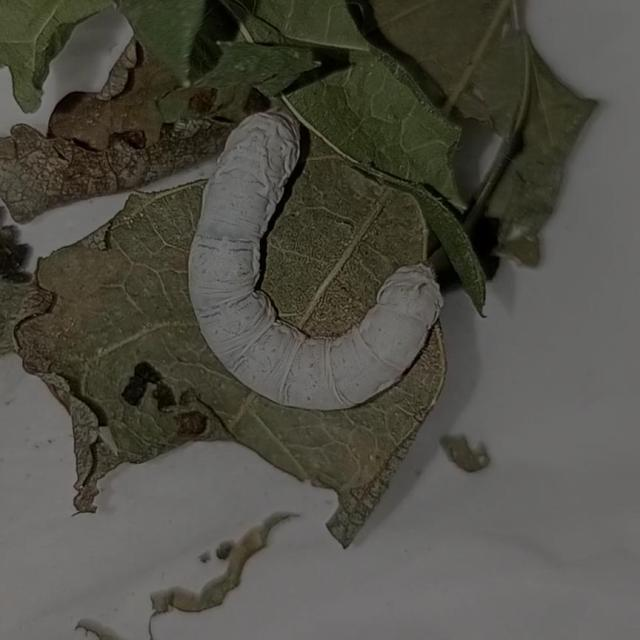Healthy: (175, 82, 469, 431)
